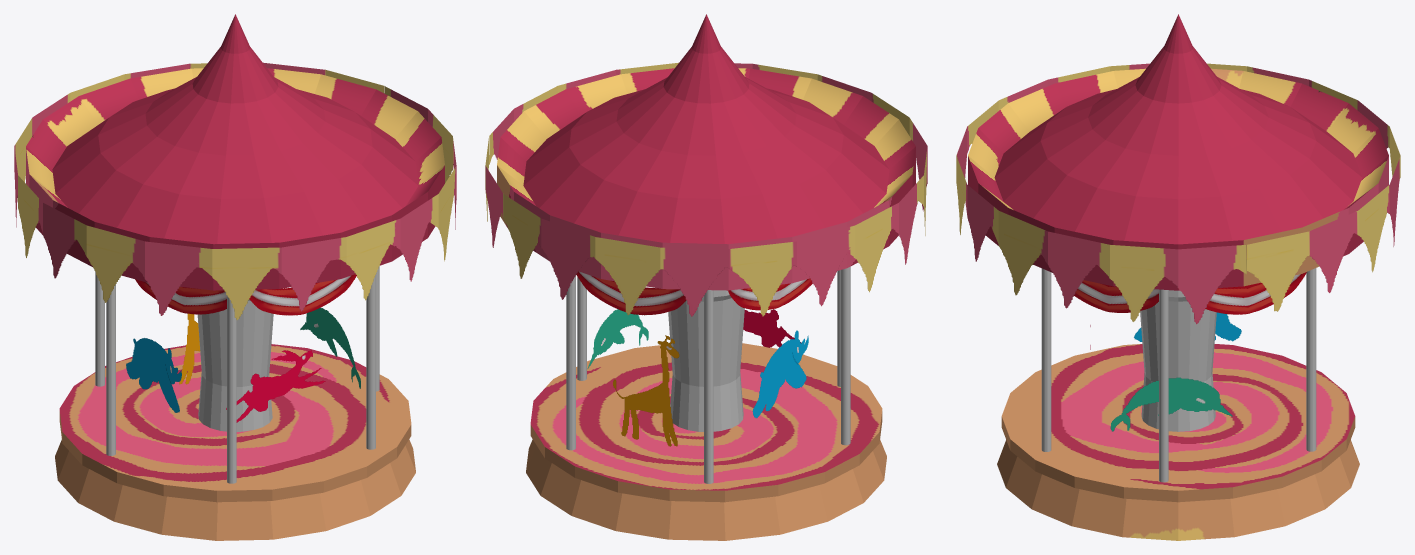
Rendered from carousel.fbx.
3 renders of one model, left to right at view 1: azimuth 30°, elevation 25°; view 2: azimuth 150°, elevation 25°; view 3: azimuth 270°, elevation 25°, orthographic.
Visible parts, largest first — view 1: pCylinder12, pCylinder14, pCylinder13, pPlane18, pPlane17; view 2: pCylinder12, pCylinder14, pCylinder13, pPlane18, pPlane17; view 3: pCylinder12, pCylinder14, pCylinder13, pPlane17, pPlane18.
Part boxes in pixels (x1,y1,x2,y2): pCylinder12: (26,14,444,540); pCylinder14: (14,62,456,319); pCylinder13: (95,266,379,483); pPlane18: (126,307,360,422); pPlane17: (135,274,356,315); pCylinder12: (497,14,915,540); pCylinder14: (485,62,927,316); pCylinder13: (566,266,850,483); pPlane18: (587,309,808,446); pPlane17: (576,271,812,315); pCylinder12: (968,14,1388,540); pCylinder14: (956,63,1400,324); pCylinder13: (1041,268,1316,482); pPlane17: (1074,272,1306,314); pPlane18: (1090,312,1241,431).
Bounding box in the file's own units: 96.67 × 110 × 96.67.
